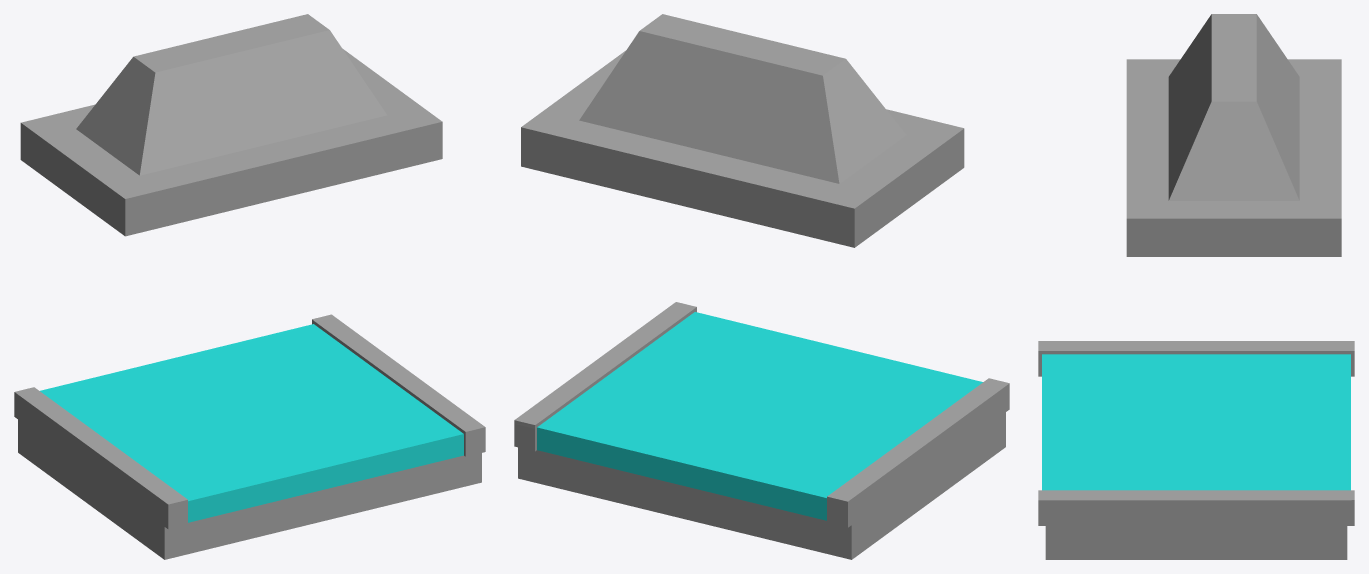
Rendered from DeliverCountertop.fbx.
The picture shows the model from 3 angles, left to right: view 1: azimuth 30°, elevation 25°; view 2: azimuth 150°, elevation 25°; view 3: azimuth 270°, elevation 25°; orthographic projection. The views are drawn at different scales.
Visible parts, largest first — view 1: Base, Exhaustor; view 2: Base, Exhaustor; view 3: Base, Exhaustor.
Boxes of the visible parts, <box> form: Base: <box>14,314,485,559</box>; Exhaustor: <box>20,14,442,236</box>; Base: <box>514,302,1009,559</box>; Exhaustor: <box>521,14,964,247</box>; Base: <box>1038,341,1354,559</box>; Exhaustor: <box>1126,14,1341,256</box>.
Bounding box in the file's own units: 200 × 248 × 168.
